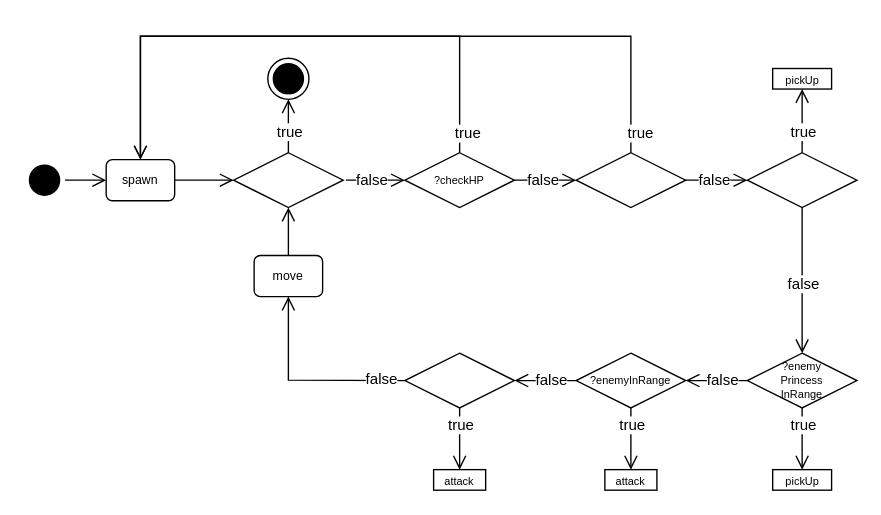
Some shapes in this 881 by 515 pixel diagram are drawn without their labels. The shapes that lost their labels are listed below. From the top down, each one's box as (x1, y1, x2, y2) in pixels, then its label:
(232, 151, 343, 208): ?checkEnd
(575, 151, 686, 208): ?checkStrEffect
(746, 151, 857, 208): ?ally Princess InRange
(403, 352, 514, 408): ?enemyGate InRange
